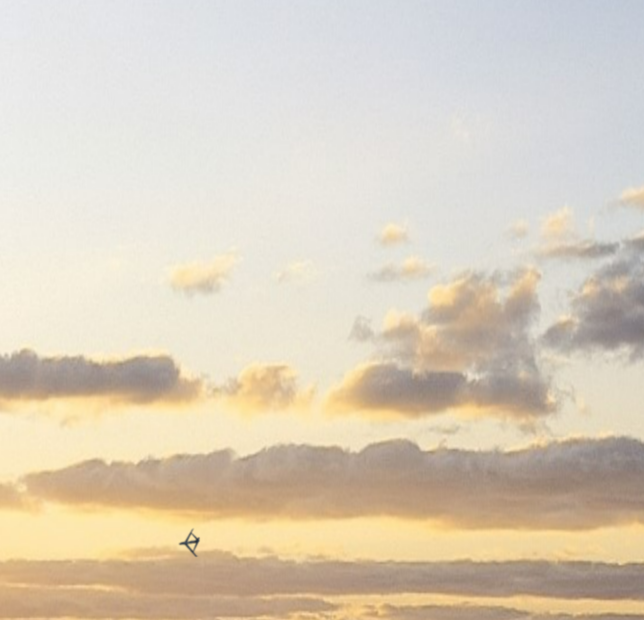military drone: (178, 527, 200, 557)
